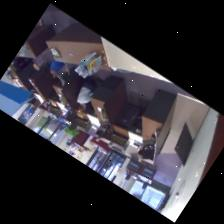person: (77, 76, 96, 111), (49, 59, 69, 84)
